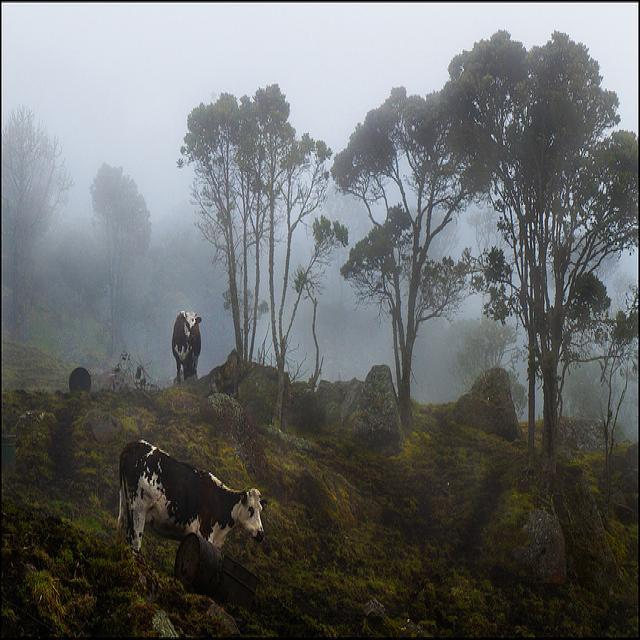cow: (116, 438, 267, 550), (170, 308, 202, 380)
